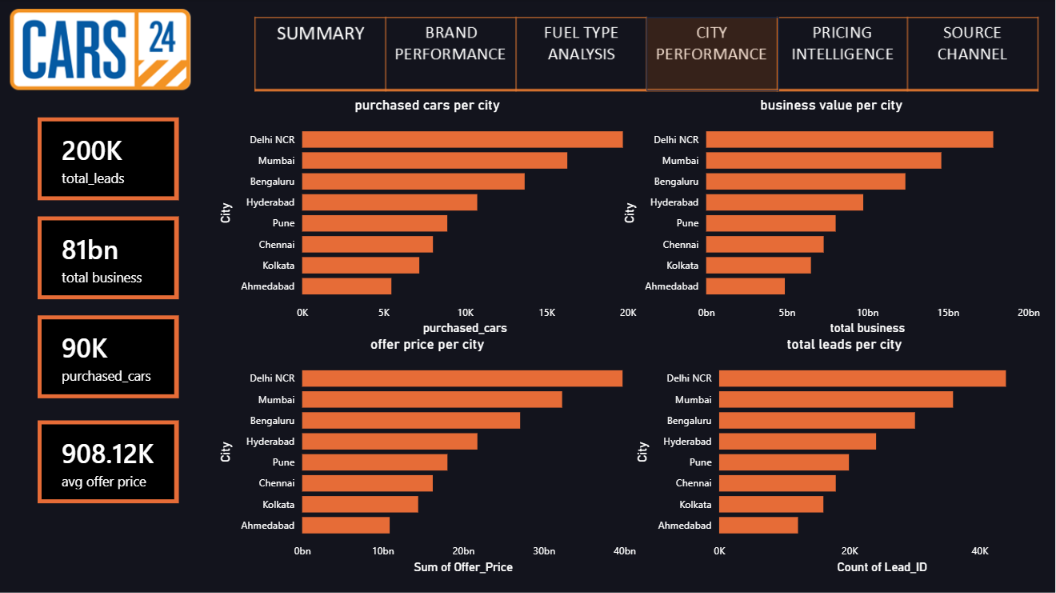

The page's visual inventory and layout, read from the dashboard file:
{"tool":"powerbi","page":{"name":"city performance","canvas":[1280,720],"ordinal":3},"visuals":[{"type":"barChart","title":"business value per city","fields":{"Category":["Cars24_Realistic_Dataset_FULL_c.City"],"Y":["Cars24_Realistic_Dataset_FULL_c.total_buisness_value"]},"box":[753.8,118.8,503.8,287.5],"z":0},{"type":"barChart","title":"purchased cars per city","fields":{"Category":["Cars24_Realistic_Dataset_FULL_c.City"],"Y":["Cars24_Realistic_Dataset_FULL_c.purchased_cars"]},"box":[266.2,118.8,503.8,287.5],"z":1000},{"type":"barChart","title":"total leads per city","fields":{"Category":["Cars24_Realistic_Dataset_FULL_c.City"],"Y":["CountNonNull(Cars24_Realistic_Dataset_FULL_c.Lead_ID)"]},"box":[770,406.2,503.8,287.5],"z":2000},{"type":"barChart","title":"offer price per city","fields":{"Category":["Cars24_Realistic_Dataset_FULL_c.City"],"Y":["Sum(Cars24_Realistic_Dataset_FULL_c.Offer_Price)"]},"box":[266.2,406.2,503.8,287.5],"z":3000},{"type":"cardVisual","fields":{"Data":["Cars24_Realistic_Dataset_FULL_c.total_leads"]},"box":[48.8,143.8,170,100],"z":4000},{"type":"cardVisual","fields":{"Data":["Avg(Cars24_Realistic_Dataset_FULL_c.Offer_Price)"]},"box":[48.8,508.8,170,100],"z":5000},{"type":"cardVisual","fields":{"Data":["Cars24_Realistic_Dataset_FULL_c.purchased_cars"]},"box":[48.8,382.5,170,100],"z":6000},{"type":"cardVisual","fields":{"Data":["Cars24_Realistic_Dataset_FULL_c.total_buisness_value"]},"box":[48.8,262.5,170,100],"z":7000},{"type":"actionButton","box":[470,22.7,154.5,92.7],"z":7001},{"type":"actionButton","box":[624.5,22.7,158.2,92.7],"z":7002},{"type":"actionButton","box":[940.9,22.7,158.2,92.7],"z":7003},{"type":"actionButton","box":[1099.1,22.7,158.2,92.7],"z":7004},{"type":"actionButton","box":[311.8,23.6,154.5,92.7],"z":7005}]}

Visuals, with their boxes in screenshot pixels (x1, y1, x2, y2), scaled from the page's 1280x720 canvas onto the 1056x593 screenshot:
"business value per city" barChart: Rect(622, 98, 1038, 335)
"purchased cars per city" barChart: Rect(220, 98, 635, 335)
"total leads per city" barChart: Rect(635, 335, 1051, 571)
"offer price per city" barChart: Rect(220, 335, 635, 571)
cardVisual - Cars24_Realistic_Dataset_FULL_c.total_leads: Rect(40, 118, 181, 201)
cardVisual - Avg(Cars24_Realistic_Dataset_FULL_c.Offer_Price): Rect(40, 419, 181, 501)
cardVisual - Cars24_Realistic_Dataset_FULL_c.purchased_cars: Rect(40, 315, 181, 397)
cardVisual - Cars24_Realistic_Dataset_FULL_c.total_buisness_value: Rect(40, 216, 181, 299)
actionButton: Rect(388, 19, 515, 95)
actionButton: Rect(515, 19, 646, 95)
actionButton: Rect(776, 19, 907, 95)
actionButton: Rect(907, 19, 1037, 95)
actionButton: Rect(257, 19, 385, 96)
